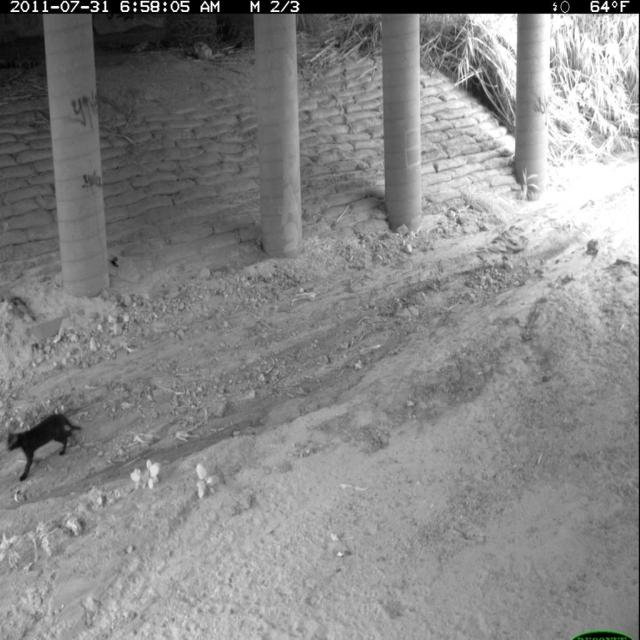cat: (5, 408, 86, 487)
